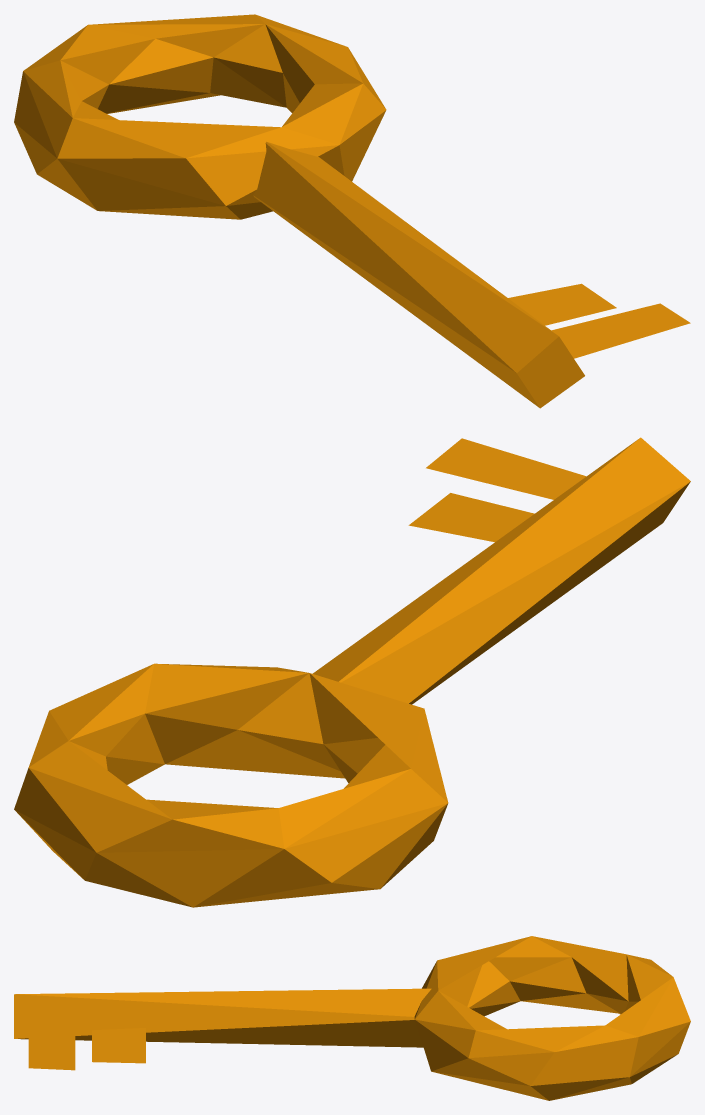
The model's file is key.fbx.
3 views of the same model, one above another, from view 1: azimuth 30°, elevation 25°; view 2: azimuth 150°, elevation 25°; view 3: azimuth 270°, elevation 25° (orthographic). The views are drawn at different scales.
Parts seen in each view (by area): view 1: Тор; view 2: Тор; view 3: Тор.
Part boxes in pixels (x1=…): Тор: x1=14, y1=14, x2=690, y2=408; Тор: x1=14, y1=437, x2=690, y2=907; Тор: x1=14, y1=936, x2=690, y2=1100.
Bounding box in the file's own units: 213 × 51 × 506.
